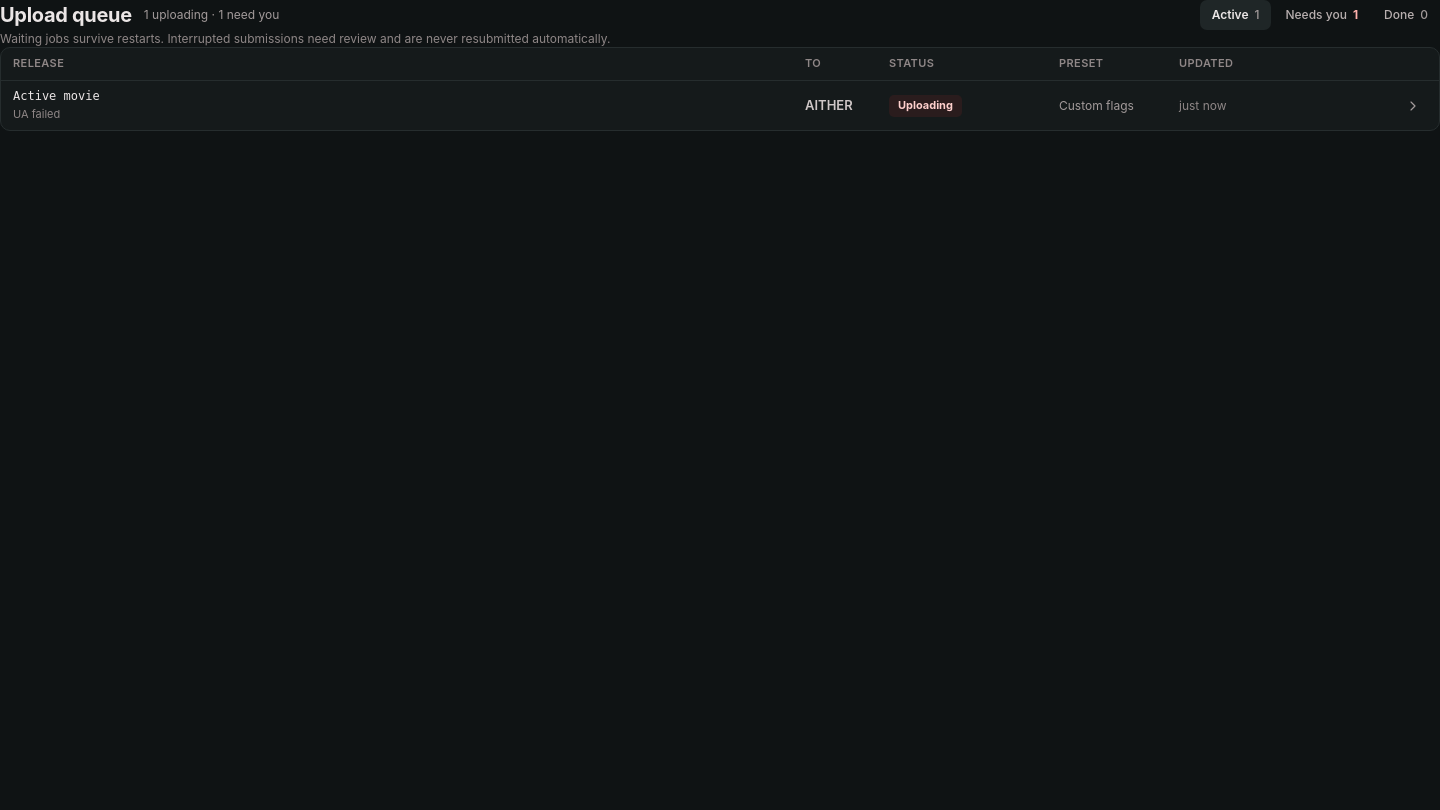
Scenario: reuploads an existing download with edited preset flags and a TMDb ID
The width and height of the screenshot is (1440, 810).
Click the tab "Needs you 1": {"x": 1322, "y": 15} [1274,0,1370,30]
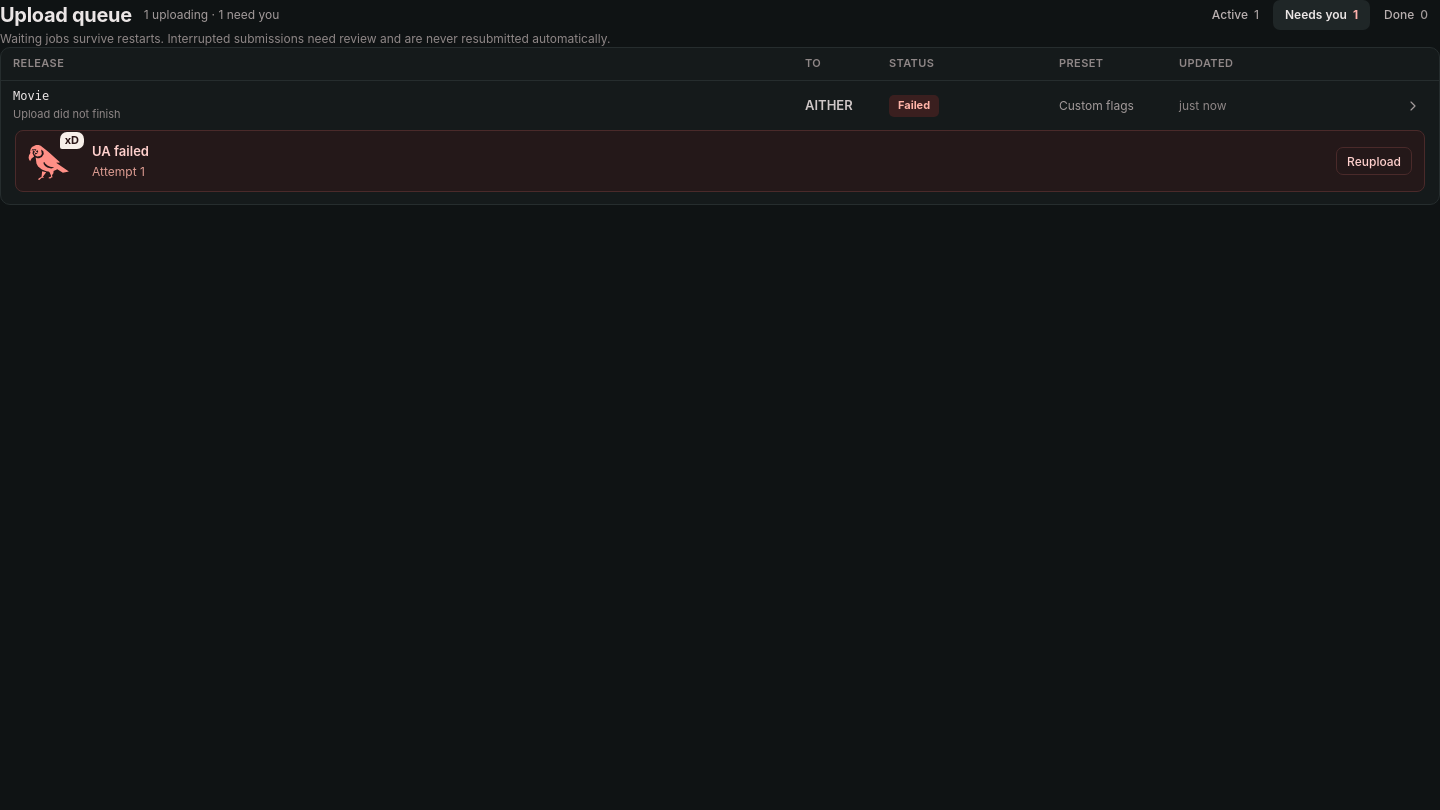
Click the button "Reupload": {"x": 1374, "y": 161} [1336,147,1412,175]
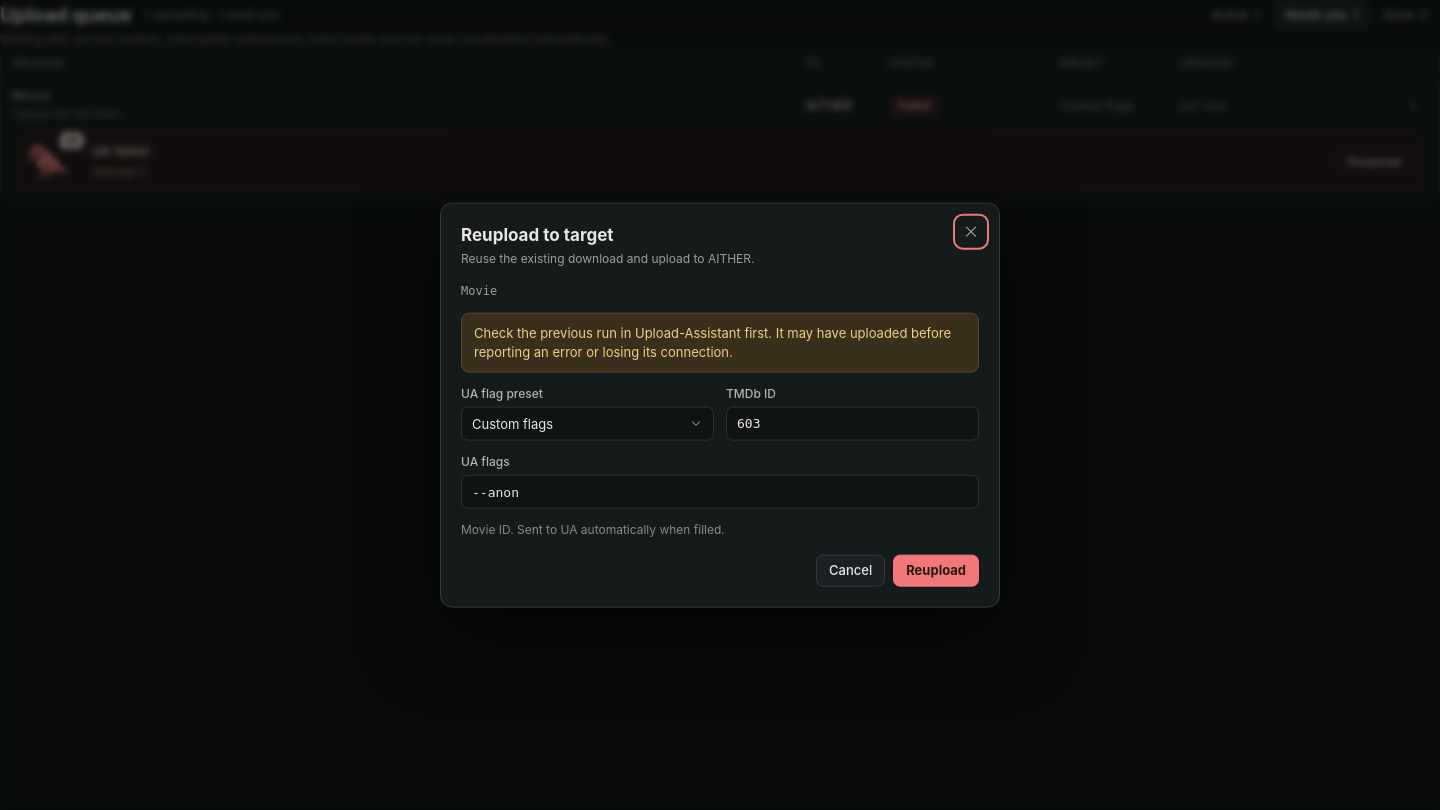
Result: the number field labelled "TMDb ID" holds "603" at [726,407,979,441]
Press ArrowDown in the button with aria-label "UA flag preset", box [461,407,714,441]
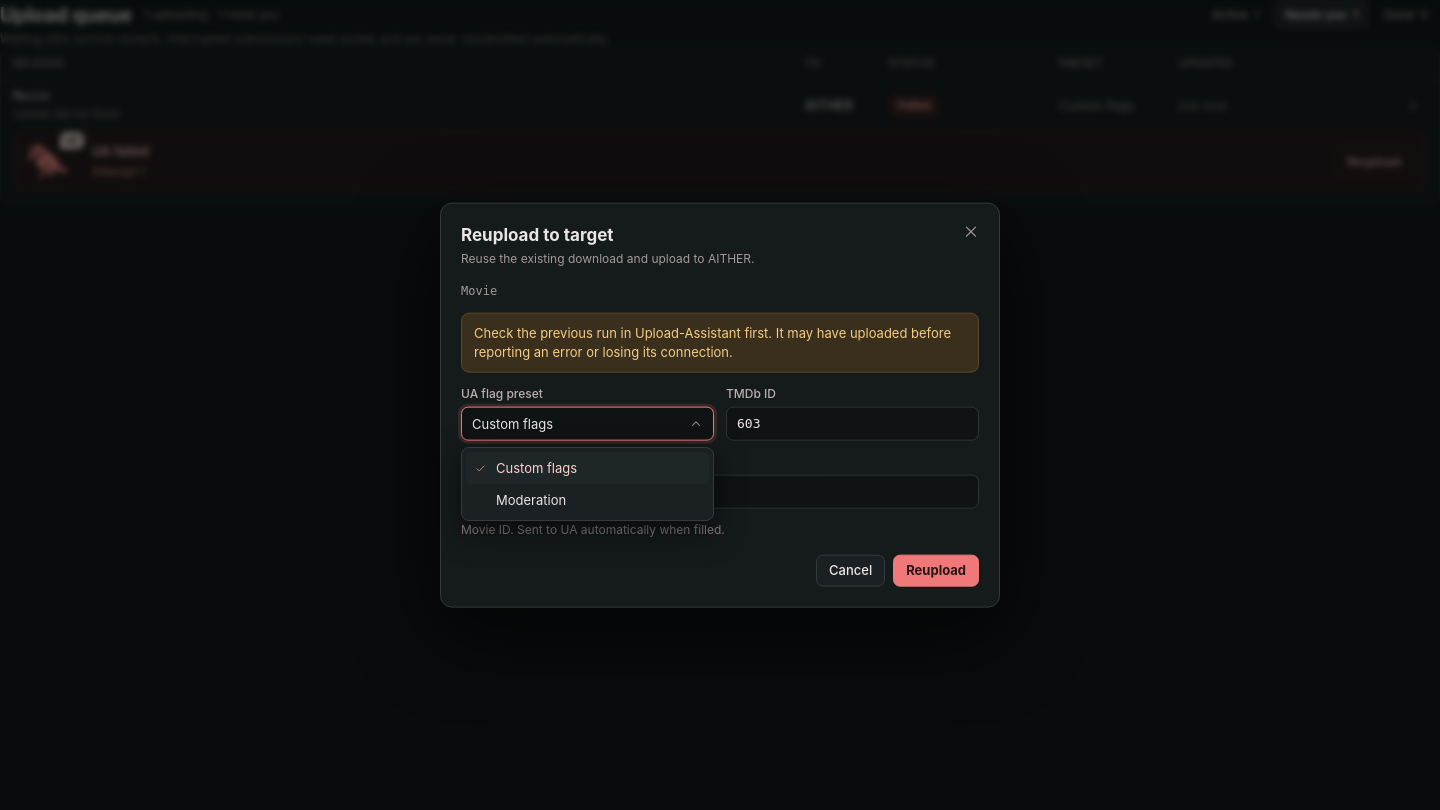
Click the menu item "Moderation": {"x": 531, "y": 500} [496,492,566,508]
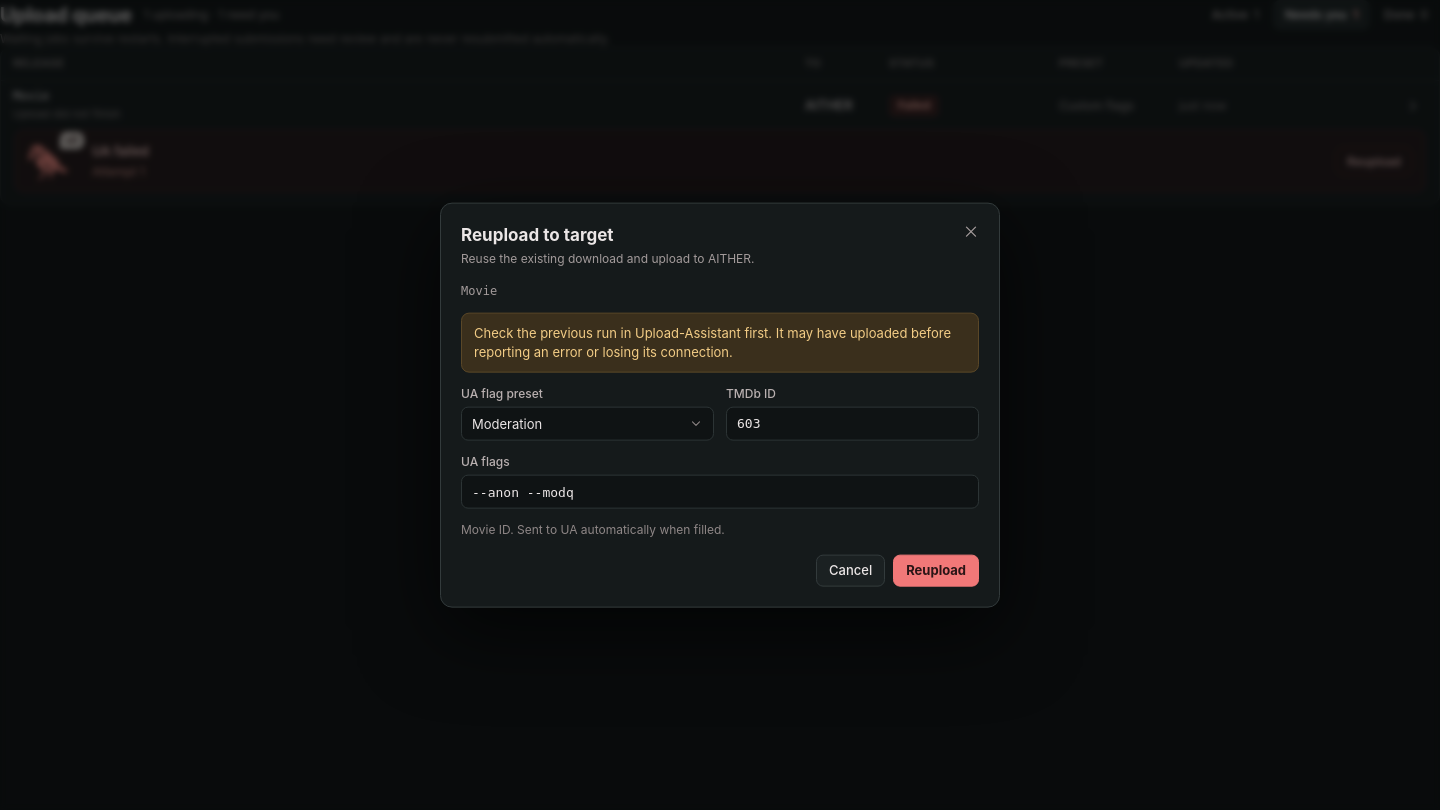
Result: the field labelled "UA flags" holds "--anon --modq"
In the field labelled "UA flags": {"x": 720, "y": 492} [461,475,979,509], type "--anon --modq --debug"
Replace the text in the number field labelled "TMDb ID" with "604": {"x": 852, "y": 424} [726,407,979,441]
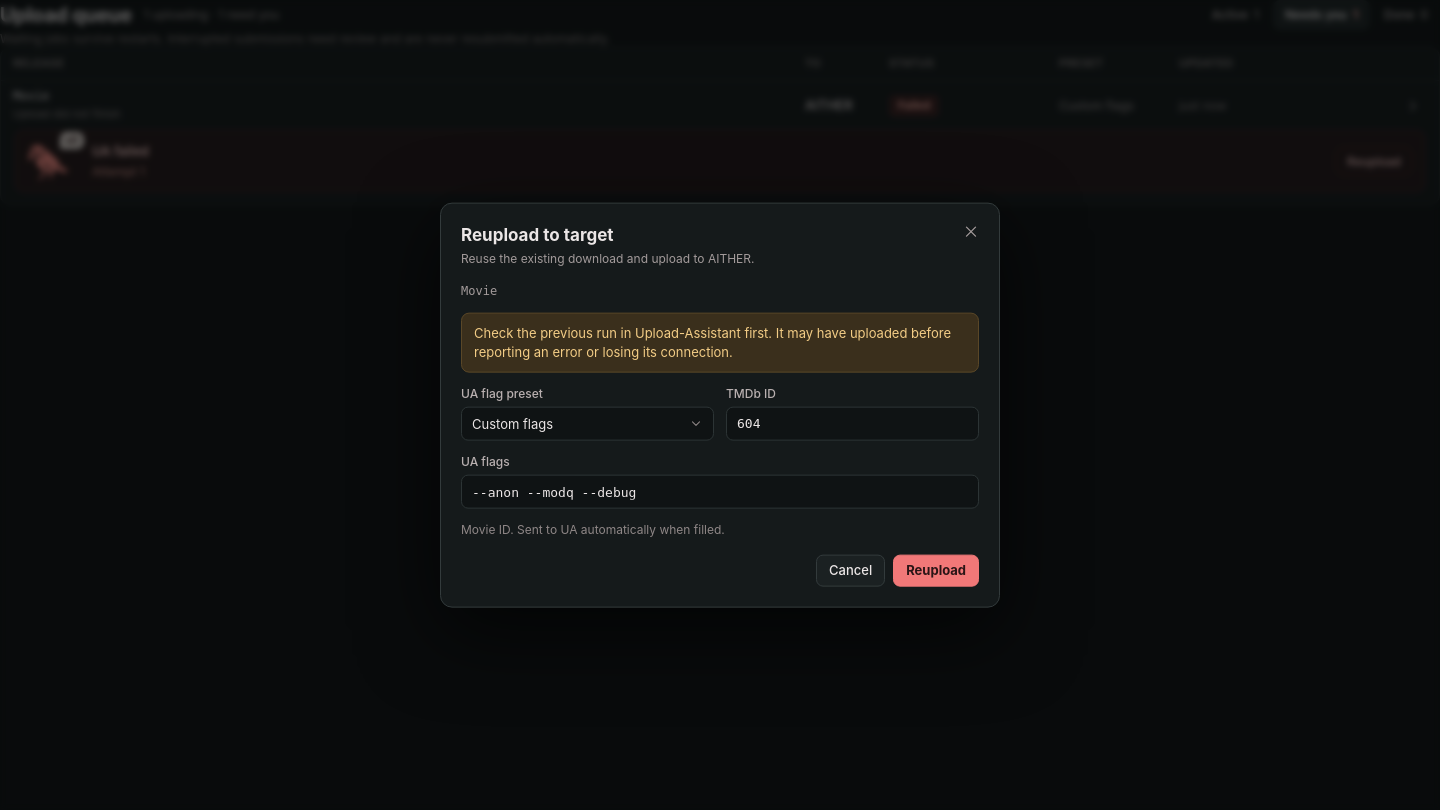
Click the button "Reupload": {"x": 936, "y": 570} [893,554,979,586]
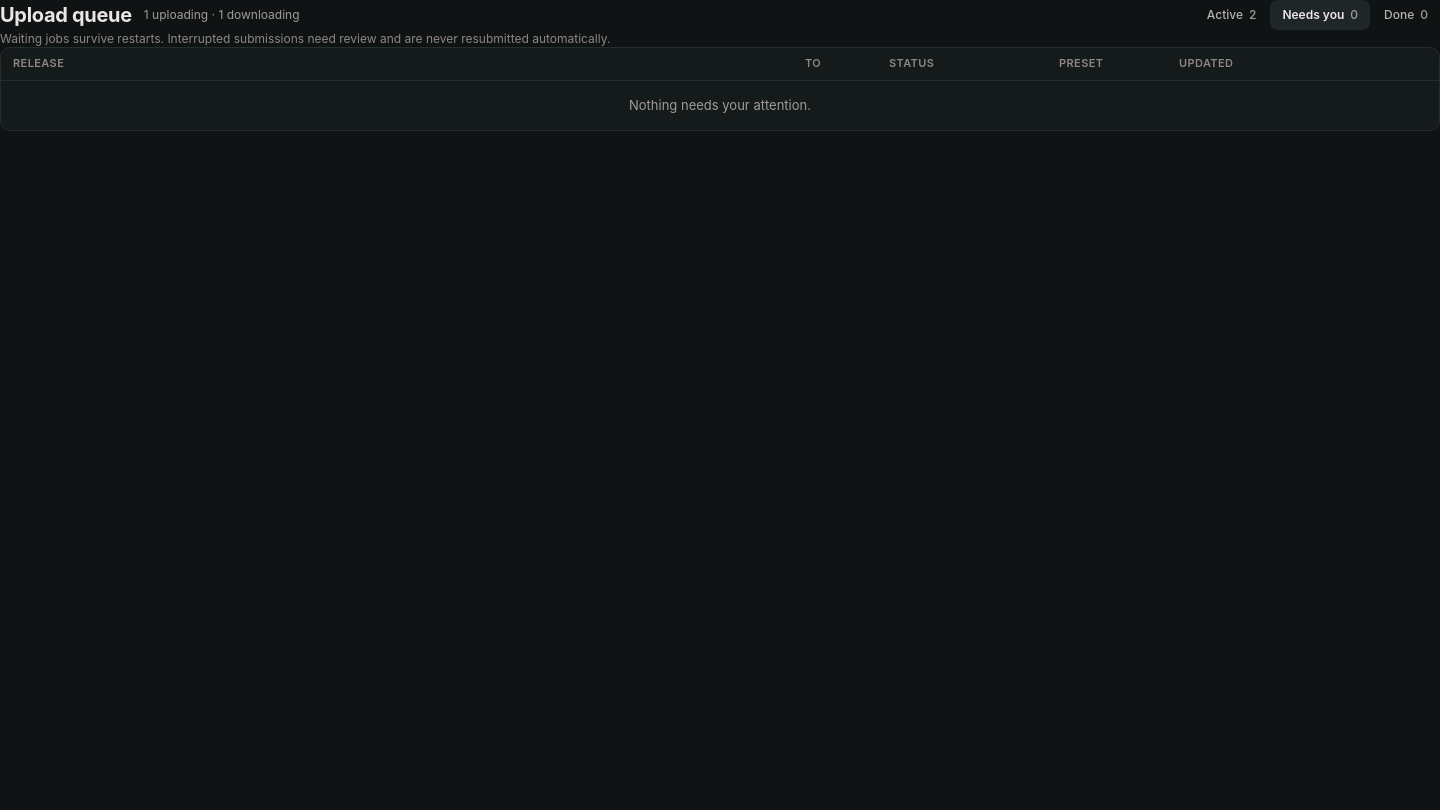
Result: the dialog is gone
